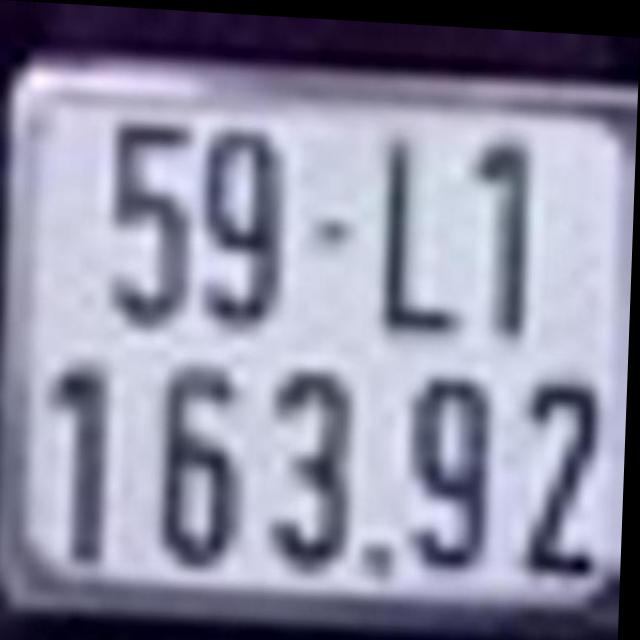1: (44, 349, 122, 567), (470, 123, 545, 327)
2: (522, 369, 608, 568)
3: (268, 355, 365, 569)
5: (101, 114, 201, 327)
6: (152, 341, 249, 569)
9: (398, 363, 499, 571), (197, 113, 288, 328)
L: (376, 126, 472, 332)
